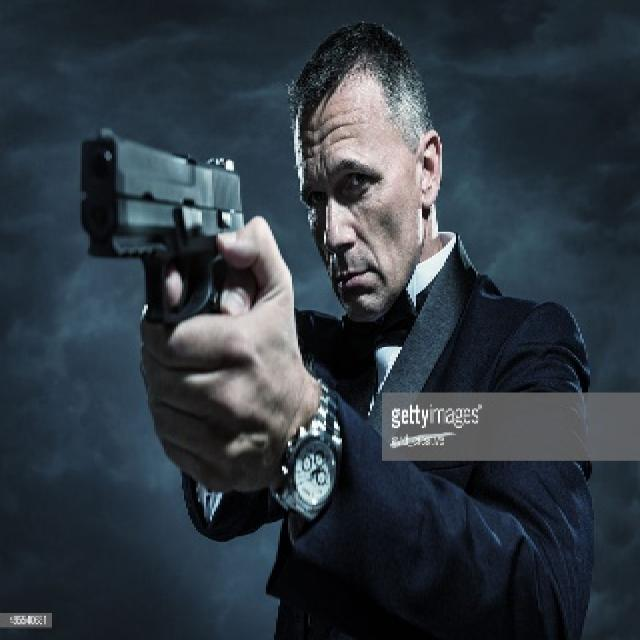handgun: (73, 125, 251, 325)
